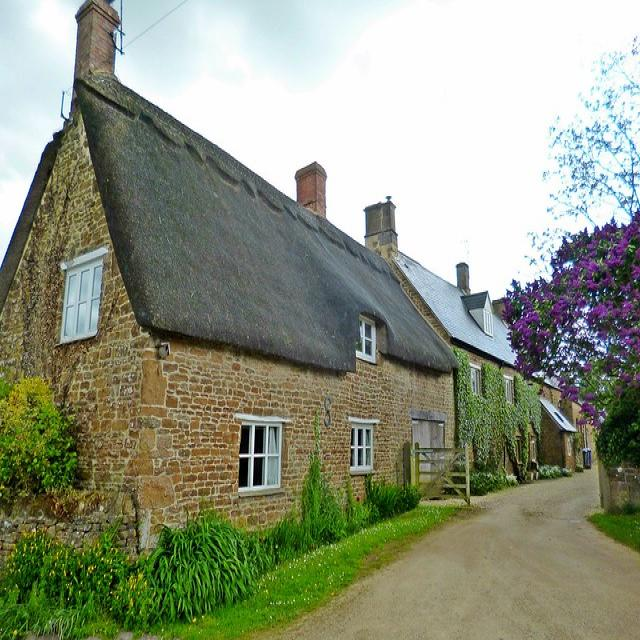building: (0, 0, 455, 613), (360, 203, 576, 489)
